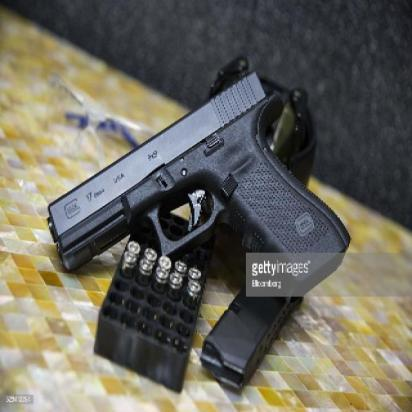Gun: (45, 59, 353, 294)
